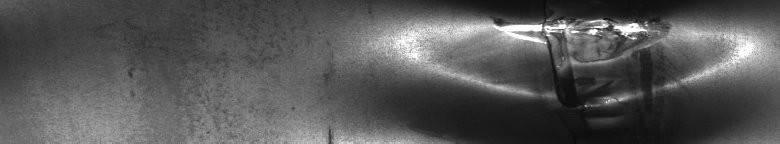ke: (404, 12, 717, 136)
